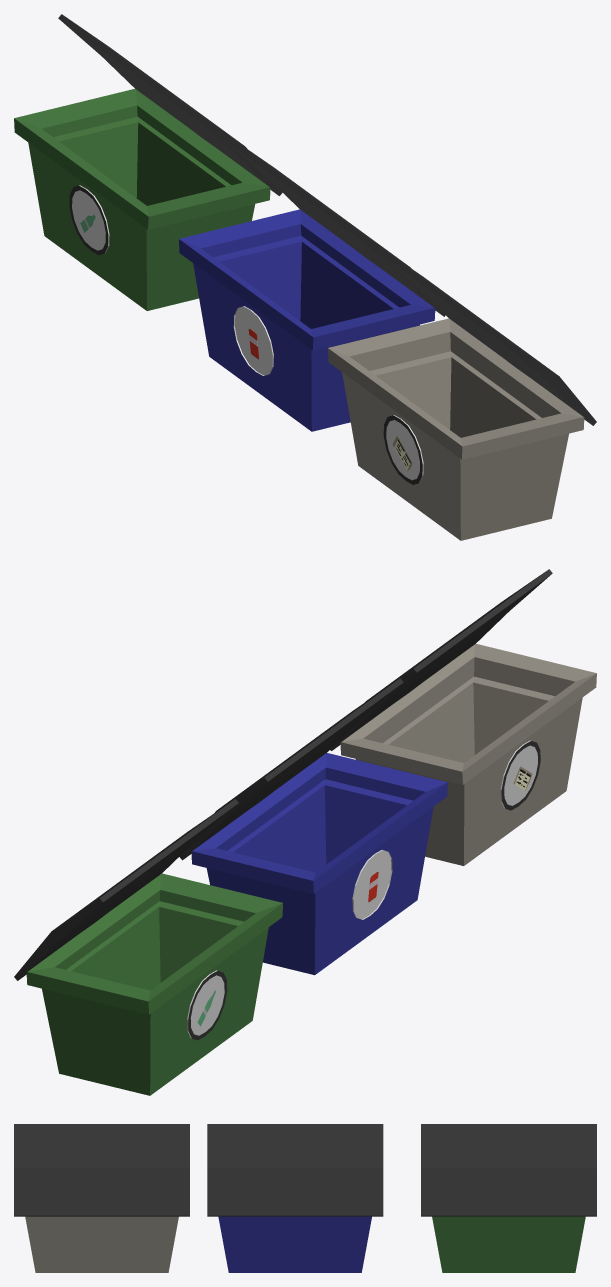
File: cont (3).fbx
The picture shows the model from 3 angles, top to bottom: view 1: azimuth 30°, elevation 25°; view 2: azimuth 150°, elevation 25°; view 3: azimuth 270°, elevation 25°; orthographic projection. The views are drawn at different scales.
Visible parts, largest first — view 1: cont musor gazeta, cont musor, cont musor banka, cont musor gazeta.001, cont musor.001, cont musor banka.001; view 2: cont musor, cont musor banka, cont musor gazeta, cont musor.001, cont musor banka.001, cont musor gazeta.001; view 3: cont musor banka.001, cont musor gazeta.001, cont musor.001, cont musor, cont musor banka, cont musor gazeta.
Part boxes in pixels (x1,y1,x2,y2): cont musor gazeta: (328, 318, 584, 540); cont musor: (14, 89, 270, 310); cont musor banka: (179, 209, 435, 431); cont musor gazeta.001: (372, 244, 596, 425); cont musor.001: (58, 14, 282, 195); cont musor banka.001: (223, 135, 445, 316); cont musor: (26, 873, 282, 1095); cont musor banka: (191, 753, 447, 975); cont musor gazeta: (340, 644, 596, 865); cont musor.001: (14, 799, 238, 980); cont musor banka.001: (179, 678, 403, 860); cont musor gazeta.001: (330, 569, 552, 750); cont musor banka.001: (207, 1124, 383, 1216); cont musor gazeta.001: (14, 1124, 189, 1216); cont musor.001: (421, 1124, 596, 1216); cont musor: (432, 1216, 585, 1272); cont musor banka: (218, 1216, 371, 1272); cont musor gazeta: (25, 1216, 178, 1272).
Bounding box in the file's own units: 664 × 956 × 3866.
